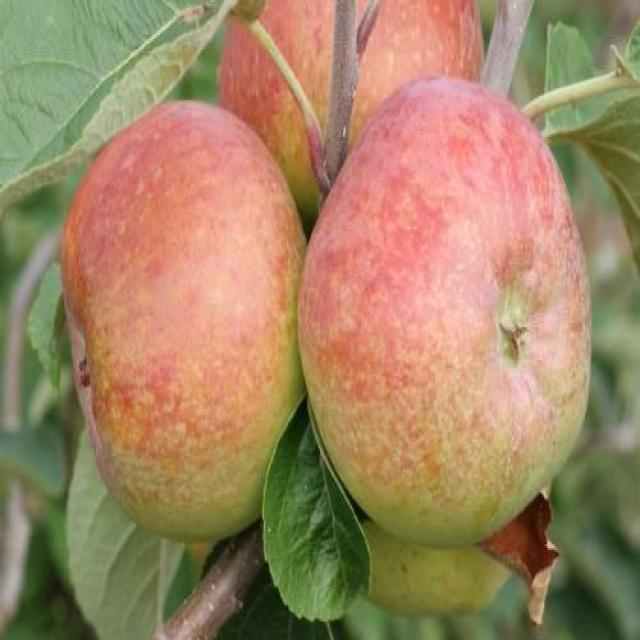Fresh Apple: (300, 73, 600, 545), (57, 100, 313, 543), (215, 0, 488, 156)
